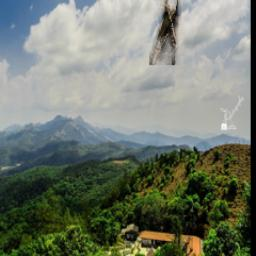Cuckoo: (149, 0, 181, 65)
